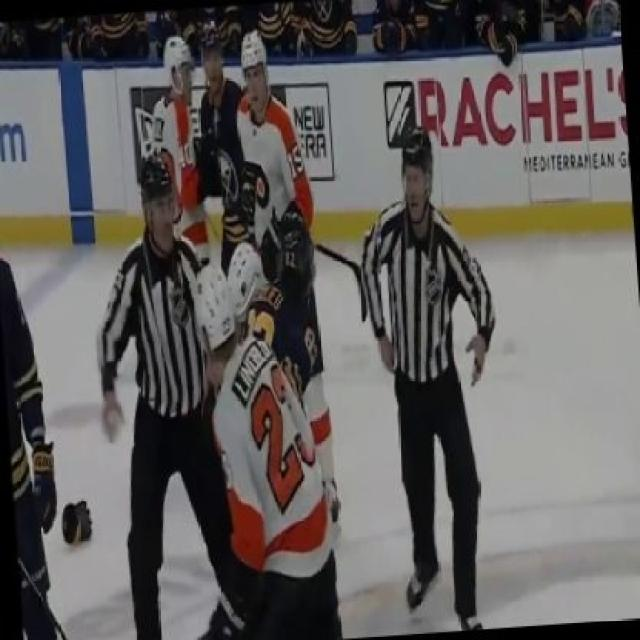fight: (179, 252, 333, 638)
non-fight: (348, 126, 500, 626), (96, 151, 247, 640), (238, 29, 342, 432)
